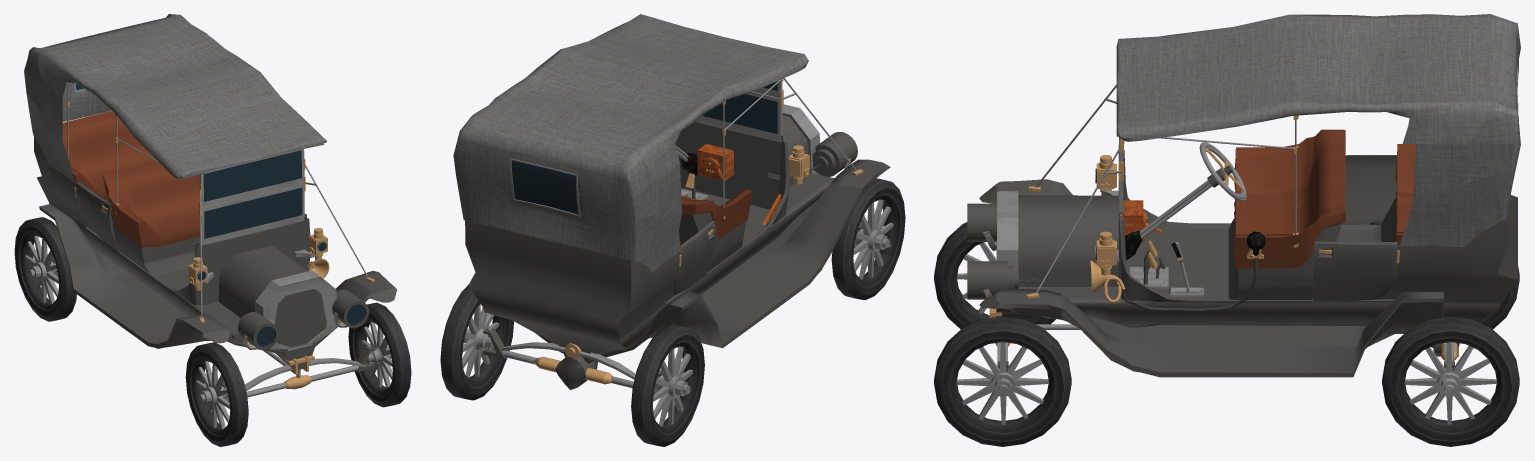
3 views of the same model, side by side, from view 1: azimuth 30°, elevation 25°; view 2: azimuth 150°, elevation 25°; view 3: azimuth 270°, elevation 25° (orthographic). The views are drawn at different scales.
Parts seen in each view (by area): view 1: Front_Chair, Chassy1, Chassy_Wall, High_Res_Driver_Front_High2, High_Res_Driver_Front_High3, High_Res_Driver_Front_High1, Top_Windshield_Glass, Bottom_Windshield_Glass, Radiator, polySurface25, Front_Lights1, Doors (+6 smaller); view 2: Front_Chair, Chassy1, Chassy_Wall, High_Res_Driver_Front_High3, High_Res_Driver_Front_High2, High_Res_Driver_Front_High4, polySurface31, Rear_Windshield, Bottom_Windshield_Glass1, Doors, polySurface25, Front_Lights1 (+6 smaller); view 3: Front_Chair, Chassy1, High_Res_Driver_Front_High1, High_Res_Driver_Front_High4, Doors, polySurface25, Chassy_Wall, High_Res_Driver_Front_High2, Front_Lights1, polySurface31, Radiator, Light_Cages (+7 smaller).
Part boxes in pixels (bbox=[...]): Front_Chair: bbox=[24, 14, 326, 247]; Chassy1: bbox=[34, 137, 396, 361]; Chassy_Wall: bbox=[85, 214, 310, 305]; High_Res_Driver_Front_High2: bbox=[185, 342, 248, 446]; High_Res_Driver_Front_High3: bbox=[14, 217, 76, 321]; High_Res_Driver_Front_High1: bbox=[348, 302, 411, 407]; Top_Windshield_Glass: bbox=[203, 150, 302, 201]; Bottom_Windshield_Glass: bbox=[204, 188, 302, 238]; Radiator: bbox=[254, 270, 337, 348]; polySurface25: bbox=[196, 321, 392, 429]; Front_Lights1: bbox=[238, 289, 369, 350]; Doors: bbox=[75, 182, 119, 251]; Front_Chair: bbox=[453, 14, 808, 272]; Chassy1: bbox=[465, 115, 890, 363]; Chassy_Wall: bbox=[664, 121, 789, 305]; High_Res_Driver_Front_High3: bbox=[631, 324, 704, 446]; High_Res_Driver_Front_High2: bbox=[831, 178, 905, 300]; High_Res_Driver_Front_High4: bbox=[440, 285, 513, 400]; polySurface31: bbox=[462, 304, 692, 426]; Rear_Windshield: bbox=[511, 160, 578, 214]; Bottom_Windshield_Glass1: bbox=[702, 94, 777, 133]; Doors: bbox=[672, 221, 716, 295]; polySurface25: bbox=[853, 199, 893, 279]; Front_Lights1: bbox=[812, 132, 857, 176]; Front_Chair: bbox=[1116, 14, 1520, 269]; Chassy1: bbox=[979, 158, 1517, 377]; High_Res_Driver_Front_High1: bbox=[934, 316, 1071, 446]; High_Res_Driver_Front_High4: bbox=[1382, 316, 1519, 446]; Doors: bbox=[1313, 155, 1398, 301]; polySurface25: bbox=[956, 242, 1048, 424]; Chassy_Wall: bbox=[1118, 145, 1394, 302]; High_Res_Driver_Front_High2: bbox=[934, 222, 1055, 329]; Front_Lights1: bbox=[967, 203, 1018, 299]; polySurface31: bbox=[1404, 342, 1497, 424]; Radiator: bbox=[996, 191, 1018, 271]; Light_Cages: bbox=[1096, 163, 1116, 265].
Bounding box in the file's own units: 3.14 × 3.9 × 6.21.
Materials: 8 (8 with a texture image).
